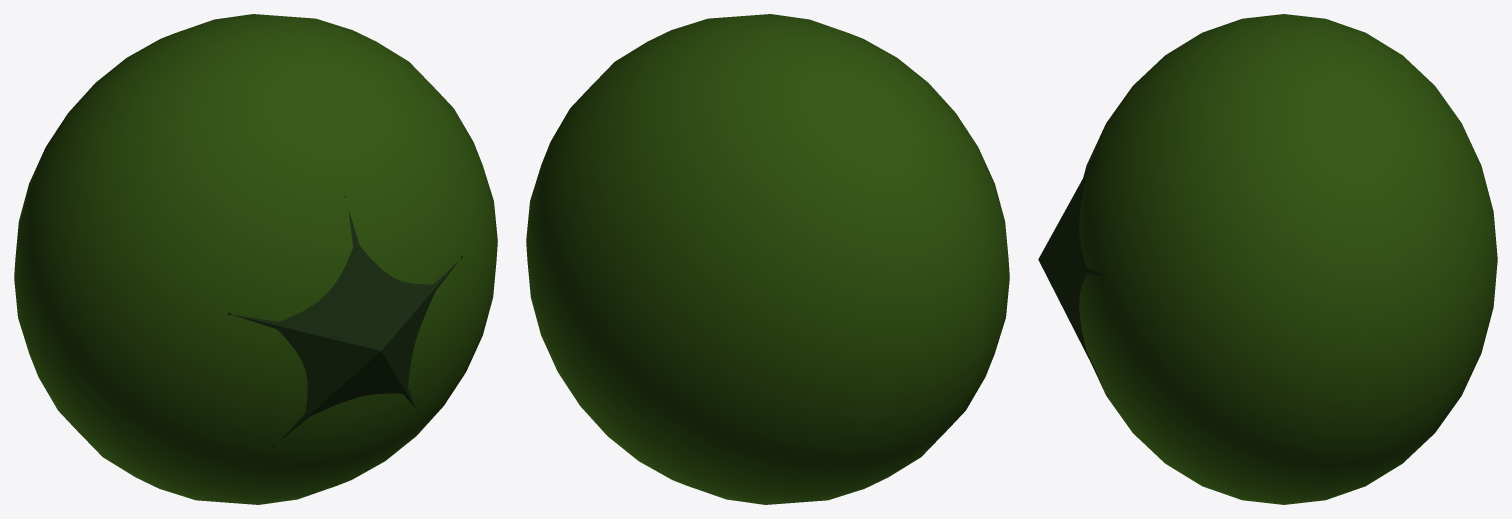
The model's file is tomato_fruit_green.obj.
3 views of the same model, side by side, from view 1: azimuth 30°, elevation 25°; view 2: azimuth 150°, elevation 25°; view 3: azimuth 270°, elevation 25° (orthographic).
Parts seen in each view (by area): view 1: fruit, calyx; view 2: fruit; view 3: fruit, calyx.
Part boxes in pixels (box(x1,y1,x2,y2)): fruit: box(14, 14, 497, 504); calyx: box(227, 195, 462, 447); fruit: box(526, 14, 1009, 504); fruit: box(1079, 14, 1497, 504); calyx: box(1038, 133, 1108, 396).
Bounding box in the file's own units: 0.07 × 0.07 × 0.0654.
